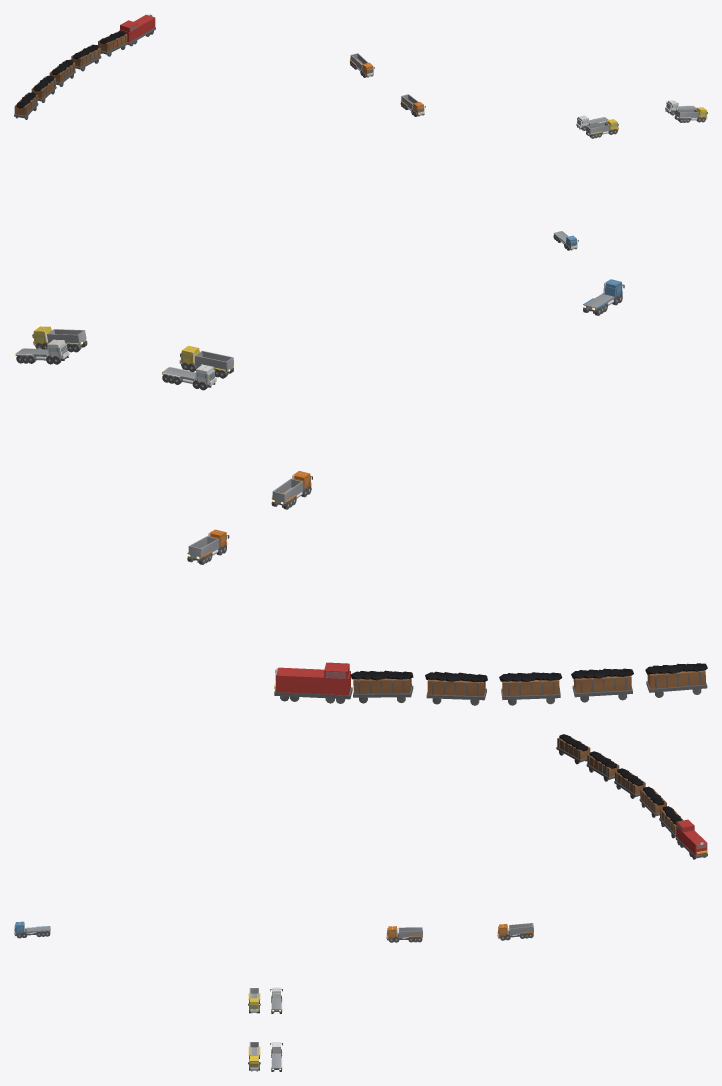
Rendered from Vehicles_P2.fbx.
3 views of the same model, one above another, from view 1: azimuth 30°, elevation 25°; view 2: azimuth 150°, elevation 25°; view 3: azimuth 270°, elevation 25° (orthographic). The views are drawn at different scales.
Visible parts, largest first — view 1: train, wagon, wagon.001, wagon.004, truck_road_ore2, wagon.002, truck_road_ore3, wagon.003, truck_road_ore0; view 2: train, wagon, wagon.001, wagon.004, wagon.003, wagon.002, truck_road_ore2, truck_road_ore3, truck_road_ore1, truck_road_cargo1, truck_road_ore0, truck_road_cargo0 (+1 smaller); view 3: train, wagon.004, wagon.003, wagon.002, truck_road_ore1, truck_road_ore0.
Part boxes in pixels (box(x1,y1,x2,y2)): train: box(119, 14, 155, 46); wagon: box(98, 31, 127, 56); wagon.001: box(71, 44, 101, 71); wagon.004: box(14, 92, 38, 119); truck_road_ore2: box(585, 119, 618, 138); wagon.002: box(49, 59, 75, 86); truck_road_ore3: box(674, 107, 707, 122); wagon.003: box(31, 75, 56, 102); truck_road_ore0: box(350, 53, 374, 77); train: box(274, 662, 352, 703); wagon: box(350, 670, 413, 703); wagon.001: box(425, 671, 487, 705); wagon.004: box(645, 663, 707, 697); wagon.003: box(571, 668, 633, 702); wagon.002: box(499, 672, 562, 705); truck_road_ore2: box(179, 345, 235, 378); truck_road_ore3: box(32, 326, 88, 352); truck_road_ore1: box(271, 471, 312, 509); truck_road_cargo1: box(160, 364, 216, 390); truck_road_ore0: box(187, 529, 229, 564); truck_road_cargo0: box(14, 339, 69, 364); train: box(675, 819, 707, 859); wagon.004: box(556, 734, 590, 764); wagon.003: box(586, 751, 619, 781); wagon.002: box(614, 768, 645, 798); truck_road_ore1: box(386, 926, 424, 942); truck_road_ore0: box(497, 923, 535, 940).
Size of the model in its own units: 18701 by 1446 by 18724.
